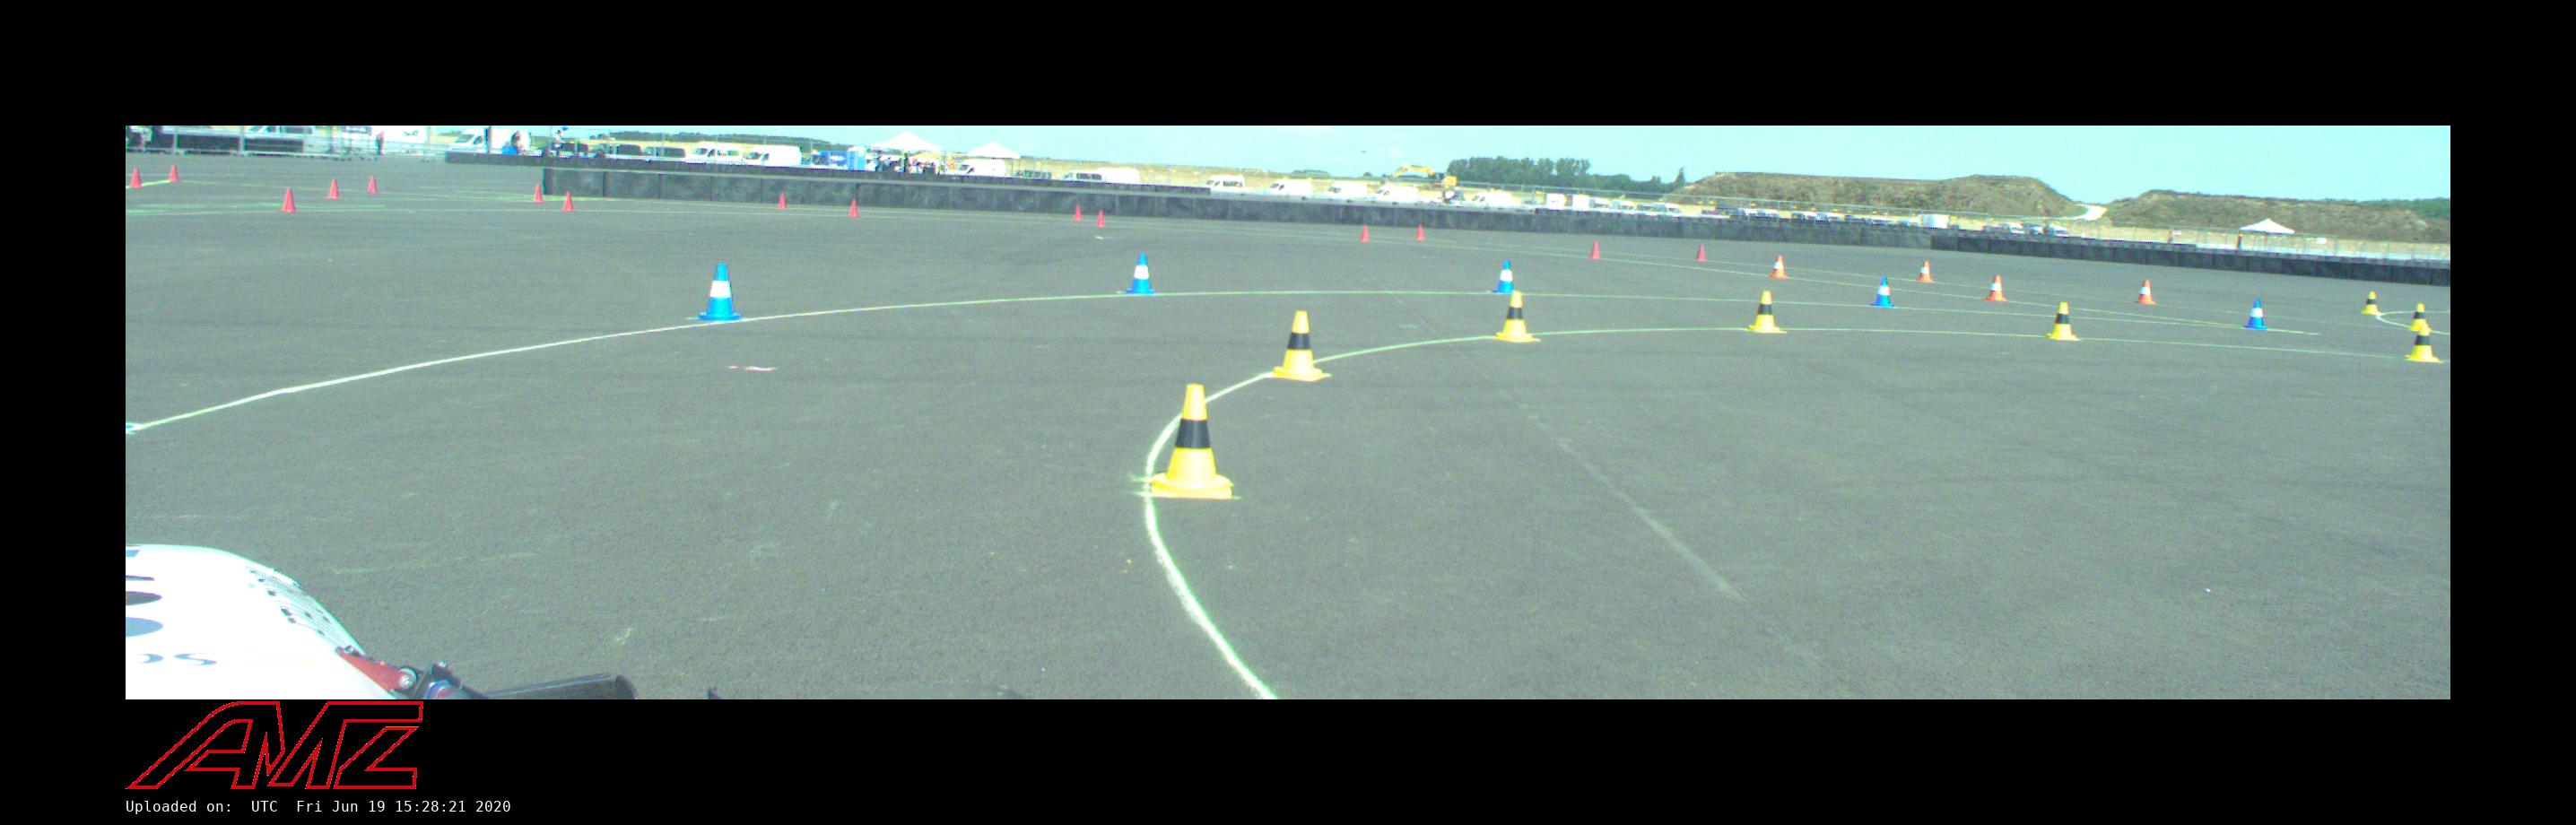blue_cone: (692, 263, 746, 320), (1120, 253, 1160, 293), (2242, 299, 2270, 330), (1493, 260, 1516, 294), (1870, 278, 1896, 307)
orange_cone: (1985, 274, 2008, 302), (2134, 279, 2157, 306), (1769, 256, 1789, 279), (1916, 261, 1935, 283)
unknown_cone: (279, 187, 297, 212), (324, 179, 343, 199), (560, 191, 577, 210), (130, 168, 143, 189), (531, 184, 545, 202), (366, 174, 380, 194), (848, 199, 861, 217), (1589, 242, 1602, 260), (1694, 245, 1707, 261), (1096, 209, 1107, 227), (777, 192, 789, 209), (169, 164, 181, 181), (1360, 225, 1370, 242), (1416, 224, 1424, 240), (1074, 205, 1083, 220)
yellow_cone: (1142, 385, 1240, 498), (1272, 311, 1331, 381), (1492, 293, 1539, 342), (1745, 291, 1787, 332), (2042, 301, 2081, 340), (2405, 325, 2441, 362), (2408, 302, 2433, 330), (2362, 291, 2384, 314)
